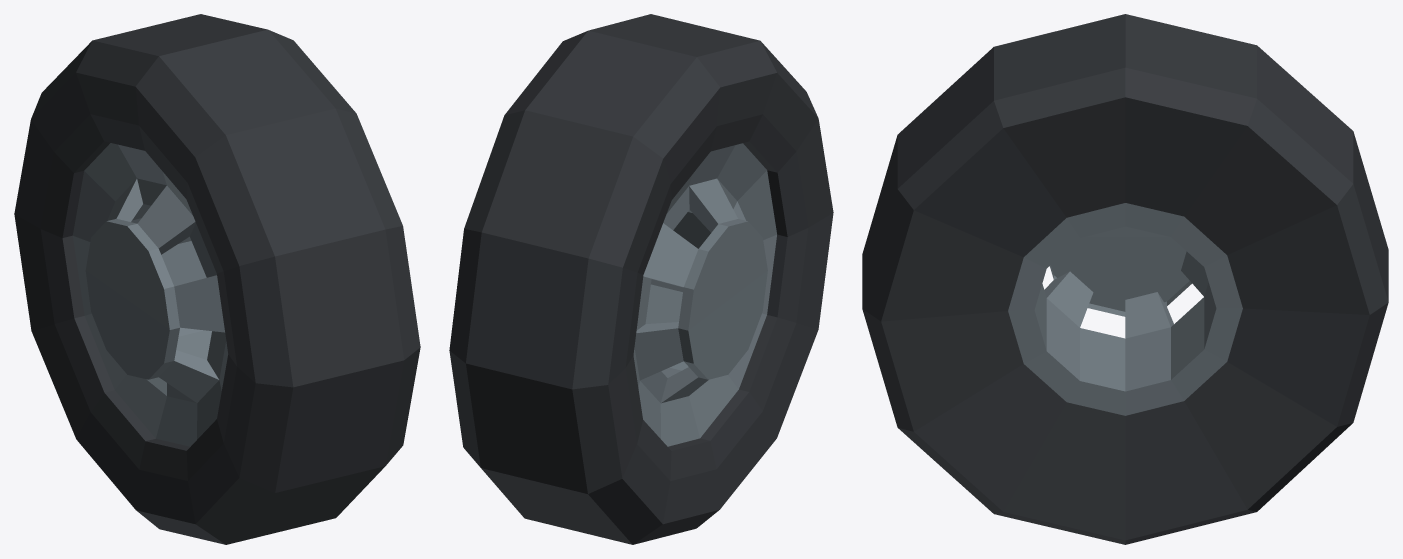
File: SM_Prop_Cart_Wood_WHeel_r.fbx
The picture shows the model from 3 angles, left to right: view 1: azimuth 30°, elevation 25°; view 2: azimuth 150°, elevation 25°; view 3: azimuth 270°, elevation 25°; orthographic projection.
Visible parts, largest first — view 1: SM_Prop_Cart_Wood_WHeel_r; view 2: SM_Prop_Cart_Wood_WHeel_r; view 3: SM_Prop_Cart_Wood_WHeel_r.
Part boxes in pixels (box(x1,y1,x2,y2)): SM_Prop_Cart_Wood_WHeel_r: box(14, 14, 420, 544); SM_Prop_Cart_Wood_WHeel_r: box(449, 14, 833, 544); SM_Prop_Cart_Wood_WHeel_r: box(862, 14, 1388, 544).
Bounding box in the file's own units: 30.4 × 79.52 × 79.52.
